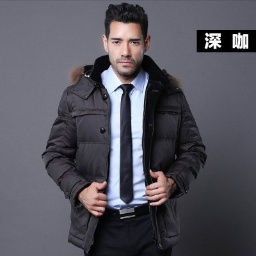face: (103, 3, 150, 76)
